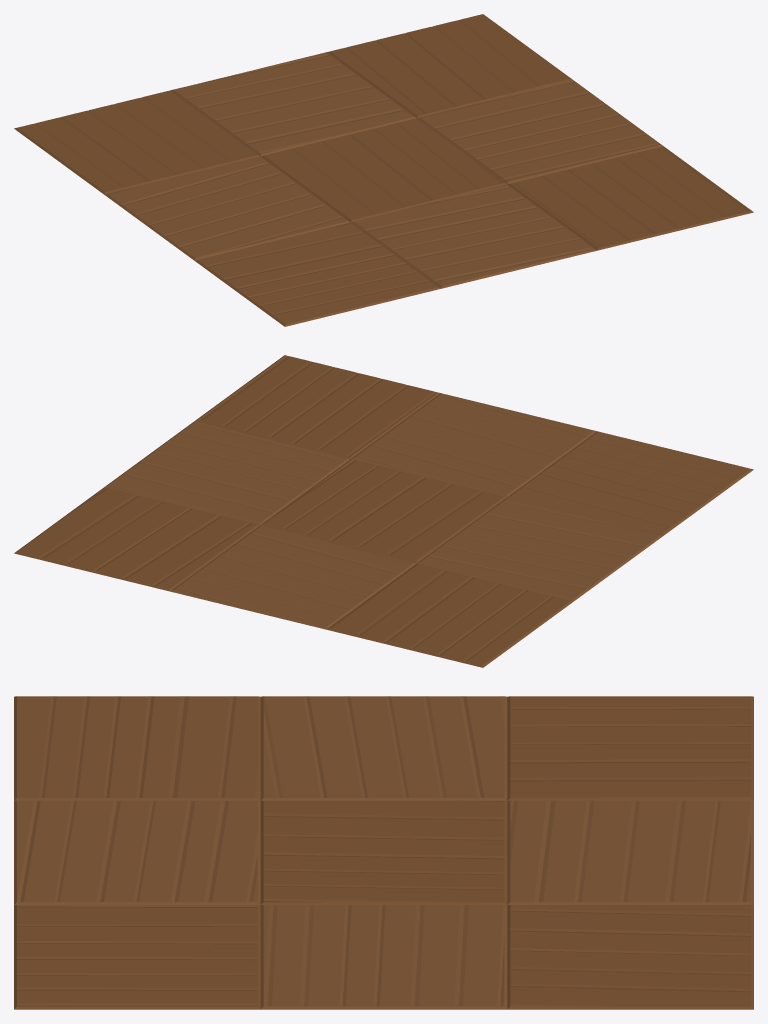
The model's file is Wood_Floor_Module_02_03.glb.
3 views of the same model, one above another, from view 1: azimuth 30°, elevation 25°; view 2: azimuth 150°, elevation 25°; view 3: azimuth 270°, elevation 25° (orthographic). The views are drawn at different scales.
Parts seen in each view (by area): view 1: Wood_Floor_Module_02_03; view 2: Wood_Floor_Module_02_03; view 3: Wood_Floor_Module_02_03.
Boxes of the visible parts, box(x1,y1,x2,y2) form: Wood_Floor_Module_02_03: box(14, 14, 753, 326); Wood_Floor_Module_02_03: box(14, 355, 753, 667); Wood_Floor_Module_02_03: box(14, 696, 753, 1009).
Bounding box in the file's own units: 4.74 × 0.012 × 4.74.
